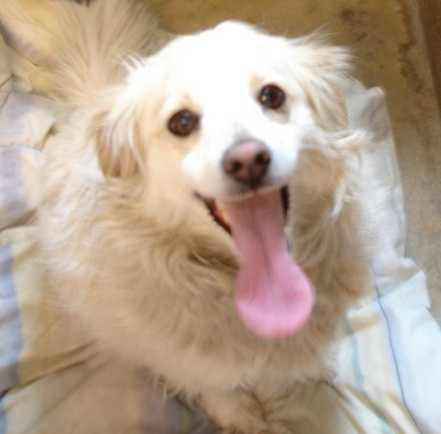Dog: (37, 22, 397, 433)
